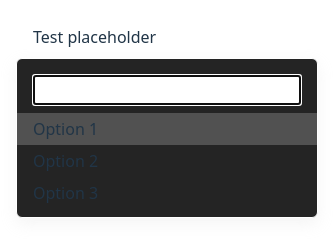
Select › Multiple select › With expanded dropdown › clicking a selected option un-selects it
This screenshot has width=335, height=241.
Step 1. Click the option "Option 3" → coordinates (66, 193), box [33, 182, 98, 204]
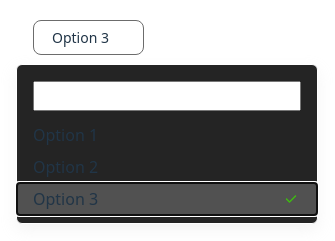
Step 2. Click the option "Option 3" → coordinates (66, 198), box [17, 182, 317, 214]
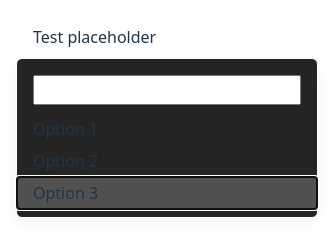
Expected: the dropdown with test id "selected-option-value" is empty, [16, 16, 316, 58]
Now the text "Test placeholder" is shown, box [33, 26, 156, 48]
